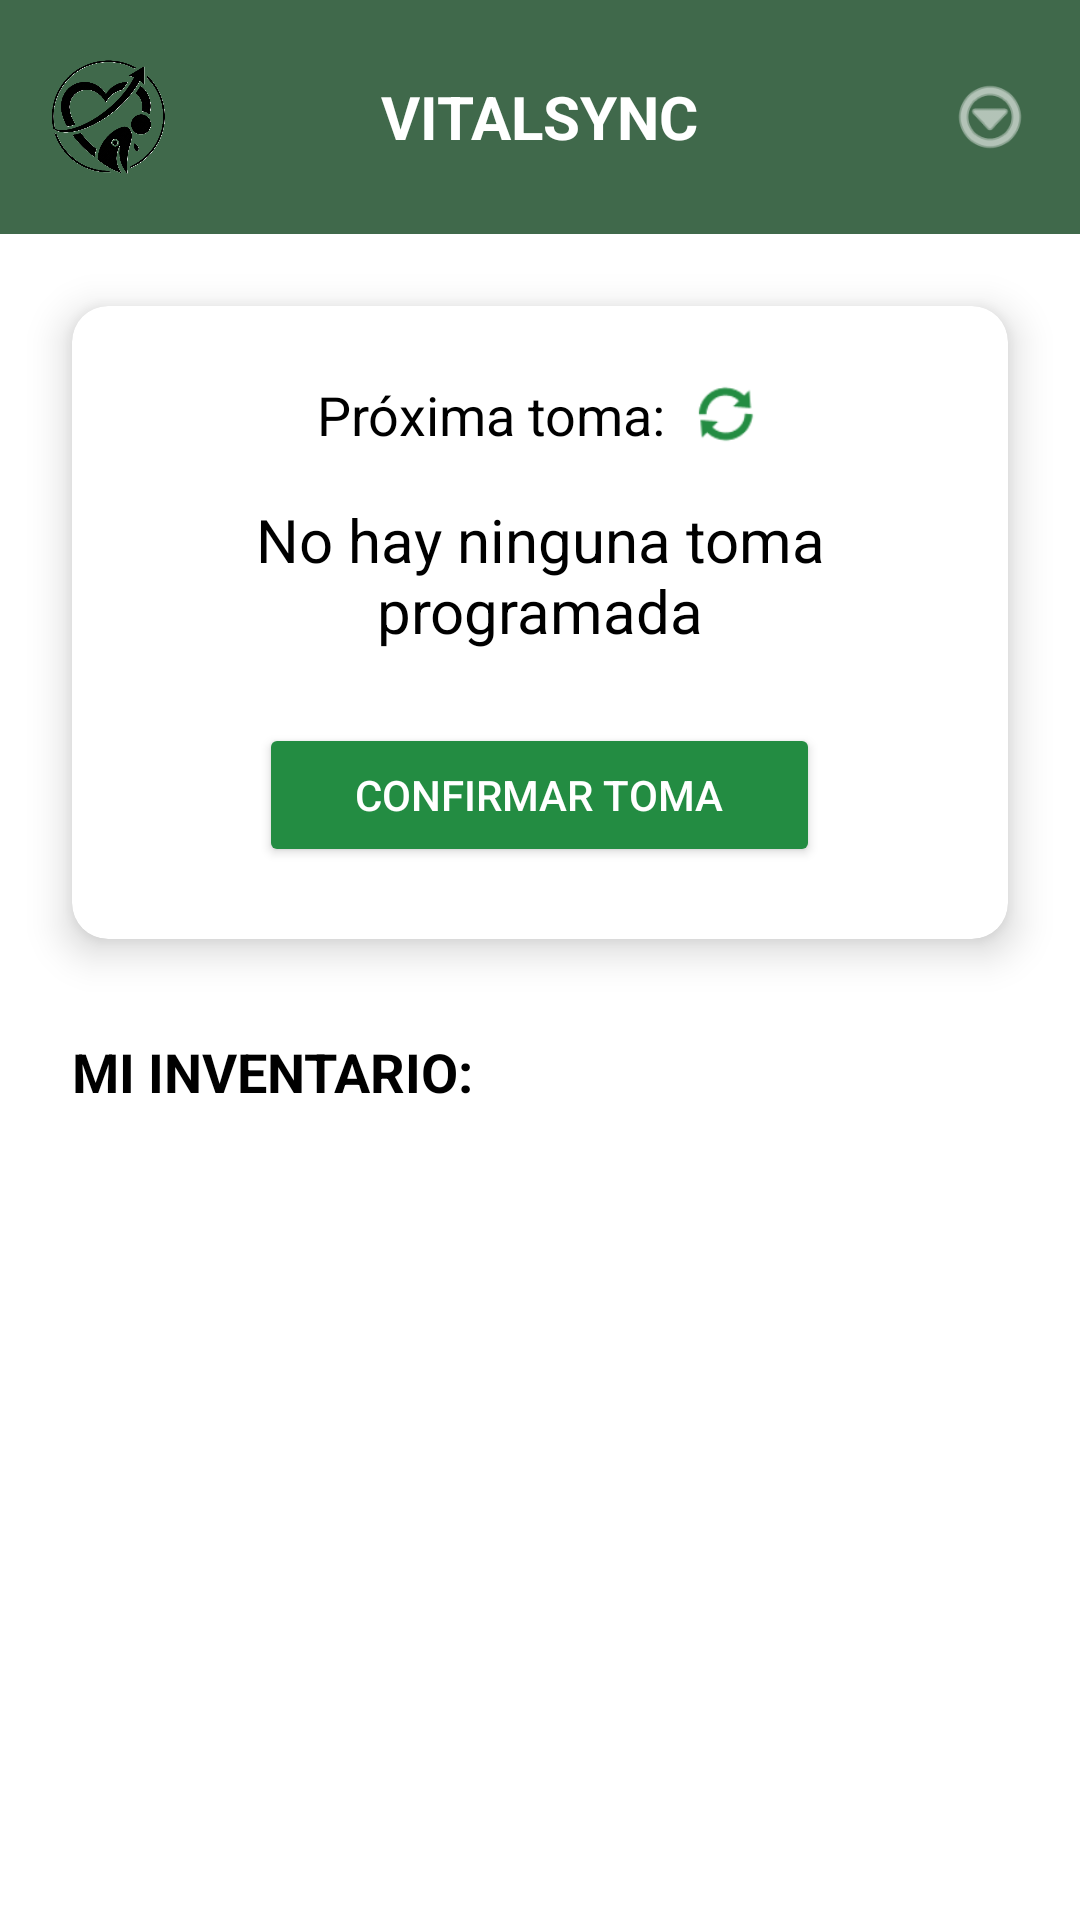

Icon bounding boxes for this 1080 × 1920 phone screenshot, format (x1, y1, x2, y2):
more: (959, 86, 1021, 148)
popup sync: (698, 387, 753, 441)
